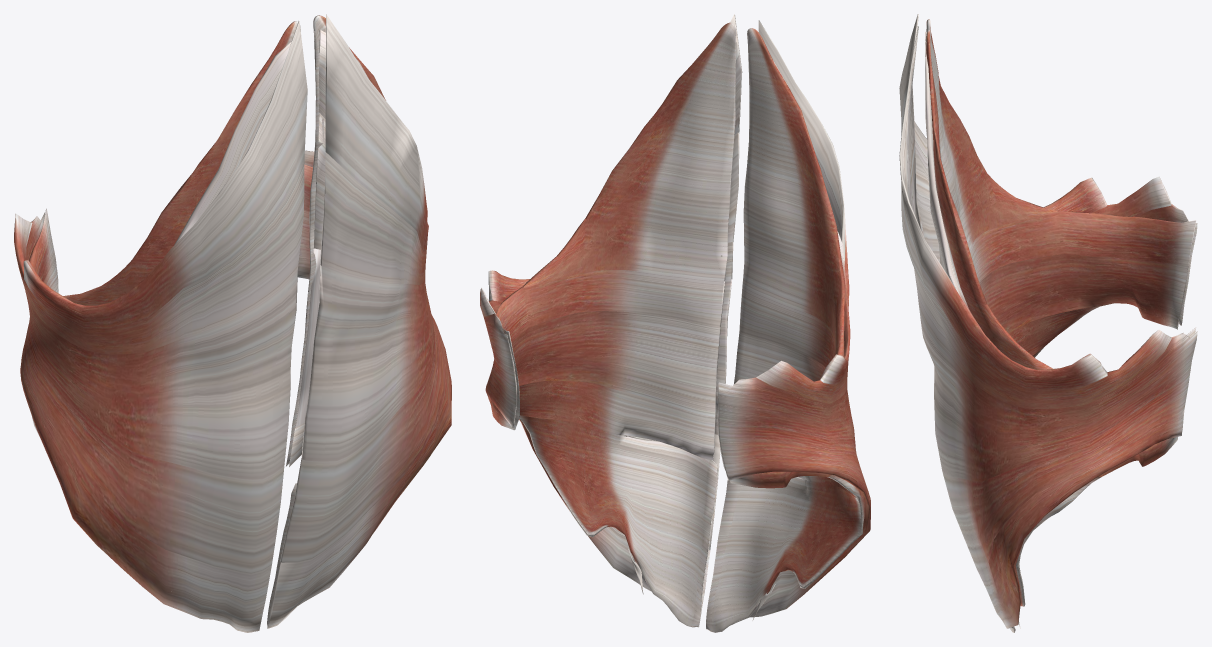
The model's file is abdo_wall_s124_female.glb.
3 renders of one model, left to right at view 1: azimuth 30°, elevation 25°; view 2: azimuth 150°, elevation 25°; view 3: azimuth 270°, elevation 25°, orthographic. The views are drawn at different scales.
Visible parts, largest first — view 1: Internal abdominal oblique muscle.r, Internal abdominal oblique muscle.l, Transverse abdominal muscle.r, Transverse abdominal muscle.l; view 2: Transverse abdominal muscle.l, Transverse abdominal muscle.r, Aponeurosis of transverse abdominal muscle.l, Internal abdominal oblique muscle.r, Aponeurosis of transverse abdominal muscle.r, Internal abdominal oblique muscle.l; view 3: Internal abdominal oblique muscle.l, Transverse abdominal muscle.r, Transverse abdominal muscle.l, Internal abdominal oblique muscle.r.
Boxes of the visible parts, <box> form: Internal abdominal oblique muscle.r: <box>14,21,307,632</box>; Internal abdominal oblique muscle.l: <box>267,14,451,628</box>; Transverse abdominal muscle.r: <box>29,21,300,436</box>; Transverse abdominal muscle.l: <box>286,15,385,466</box>; Transverse abdominal muscle.l: <box>488,22,736,594</box>; Transverse abdominal muscle.r: <box>718,28,861,620</box>; Aponeurosis of transverse abdominal muscle.l: <box>519,415,717,627</box>; Internal abdominal oblique muscle.r: <box>706,20,870,631</box>; Aponeurosis of transverse abdominal muscle.r: <box>706,477,864,632</box>; Internal abdominal oblique muscle.l: <box>480,14,742,627</box>; Internal abdominal oblique muscle.l: <box>899,26,1197,632</box>; Transverse abdominal muscle.r: <box>925,19,1196,572</box>; Transverse abdominal muscle.l: <box>926,30,1196,628</box>; Internal abdominal oblique muscle.r: <box>899,14,1197,325</box>.
Size of the model in its own units: 0.2515 by 0.3904 by 0.1741.
Materials: 1 (1 with a texture image).
